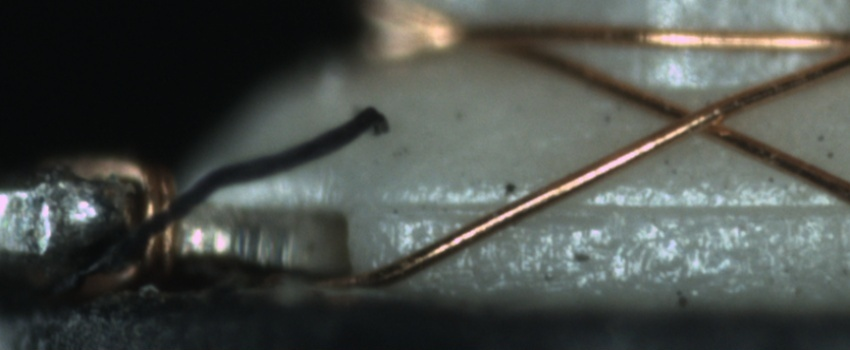CL: (648, 92, 742, 145)
DL: (400, 182, 849, 237)
TE: (24, 143, 189, 306)
